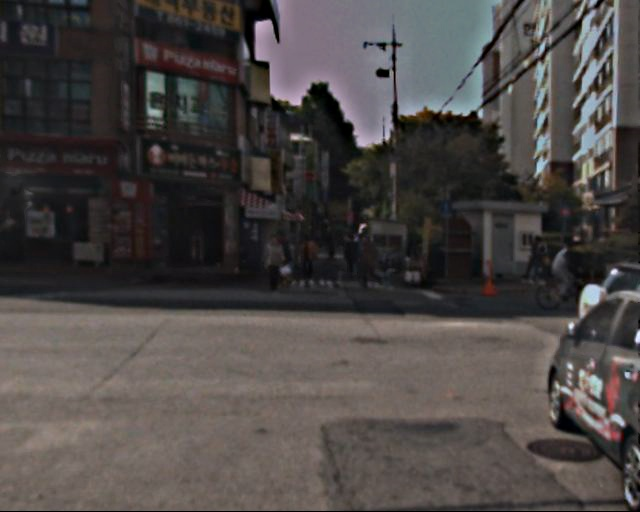person: (270, 223, 296, 287), (554, 240, 579, 300), (360, 230, 384, 289), (529, 229, 552, 286), (264, 237, 287, 292), (343, 230, 364, 280), (300, 232, 317, 274), (378, 247, 395, 288), (326, 223, 340, 256)
